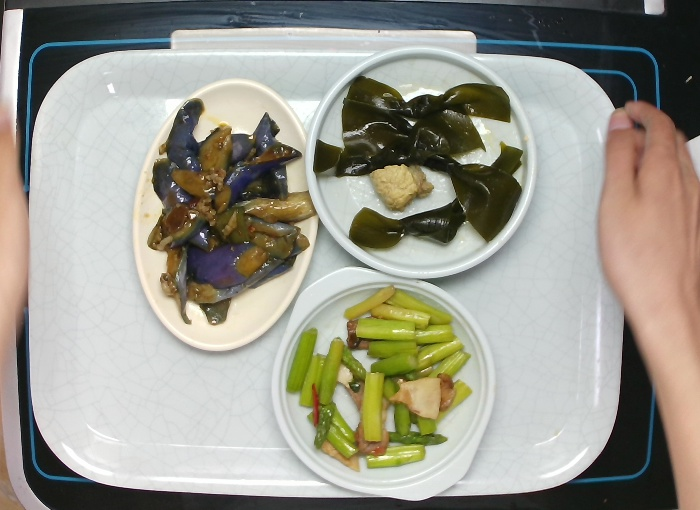JYsf-Shuang_Er_Pan: (269, 266, 497, 503)
JYsf-Tuo_Yuan_Wan: (130, 77, 321, 353)
JYsf-Xiao_Yuan_Pan: (303, 40, 539, 280)
